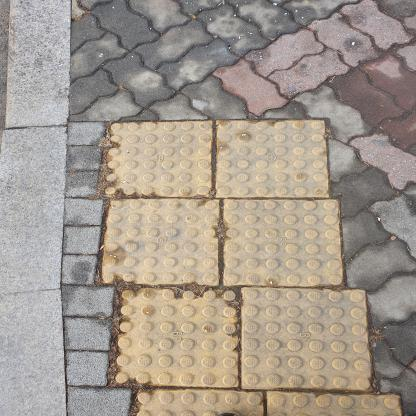podotacti: (94, 113, 415, 415)
